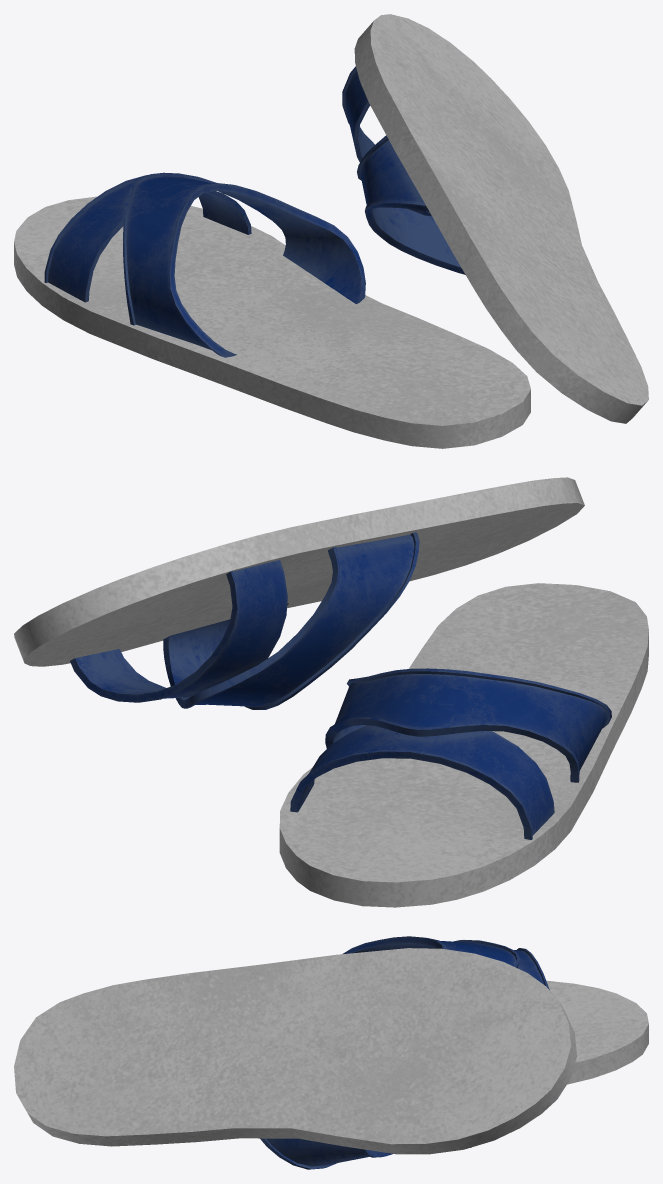
The model's file is slippers_01-2.fbx.
3 views of the same model, one above another, from view 1: azimuth 30°, elevation 25°; view 2: azimuth 150°, elevation 25°; view 3: azimuth 270°, elevation 25° (orthographic). The views are drawn at different scales.
Visible parts, largest first — view 1: shoe_01-2; view 2: shoe_01-2; view 3: shoe_01-2.
Part boxes in pixels (<box>): shoe_01-2: <box>14,14,648,448</box>; shoe_01-2: <box>14,477,648,907</box>; shoe_01-2: <box>14,936,648,1169</box>.
Bounding box in the file's own units: 23.54 × 9.9 × 31.49.
Materials: 1 (1 with a texture image).
